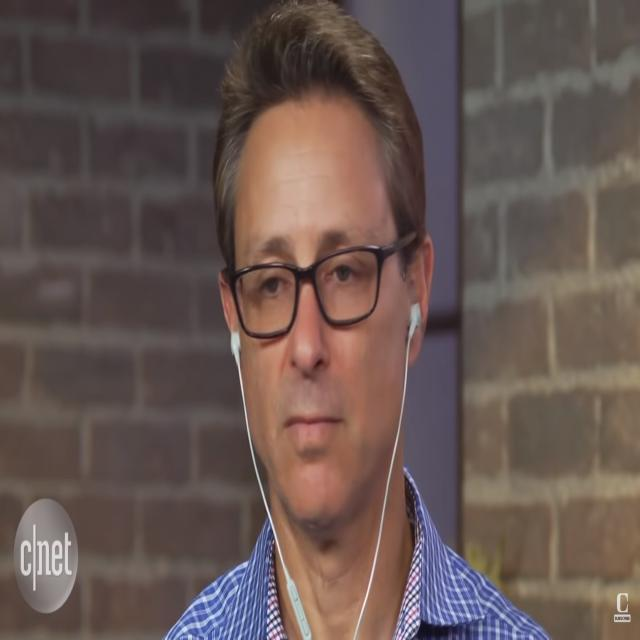Earphone: (229, 302, 422, 640)
